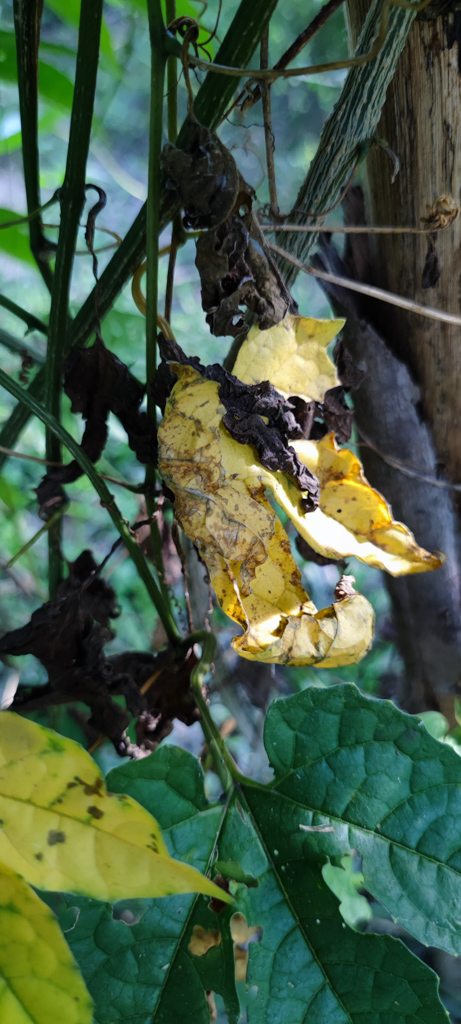Pepper yellow leaf: (129, 310, 451, 670), (1, 704, 245, 917), (2, 862, 106, 1018)
